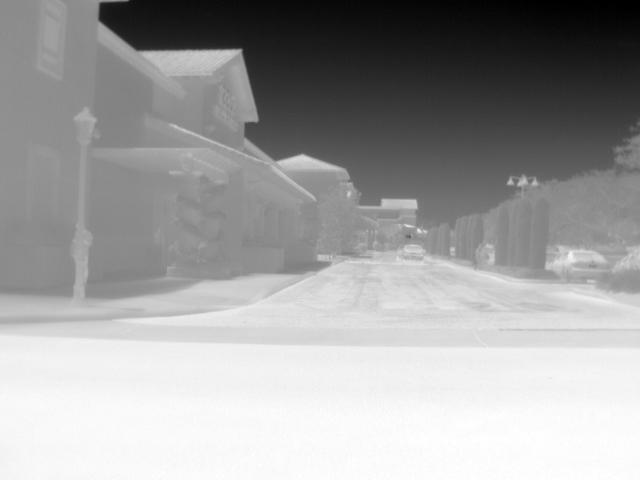car: (553, 249, 608, 283), (612, 250, 640, 272), (401, 241, 430, 261)
person: (71, 221, 95, 288), (480, 243, 492, 271), (472, 242, 484, 269)
